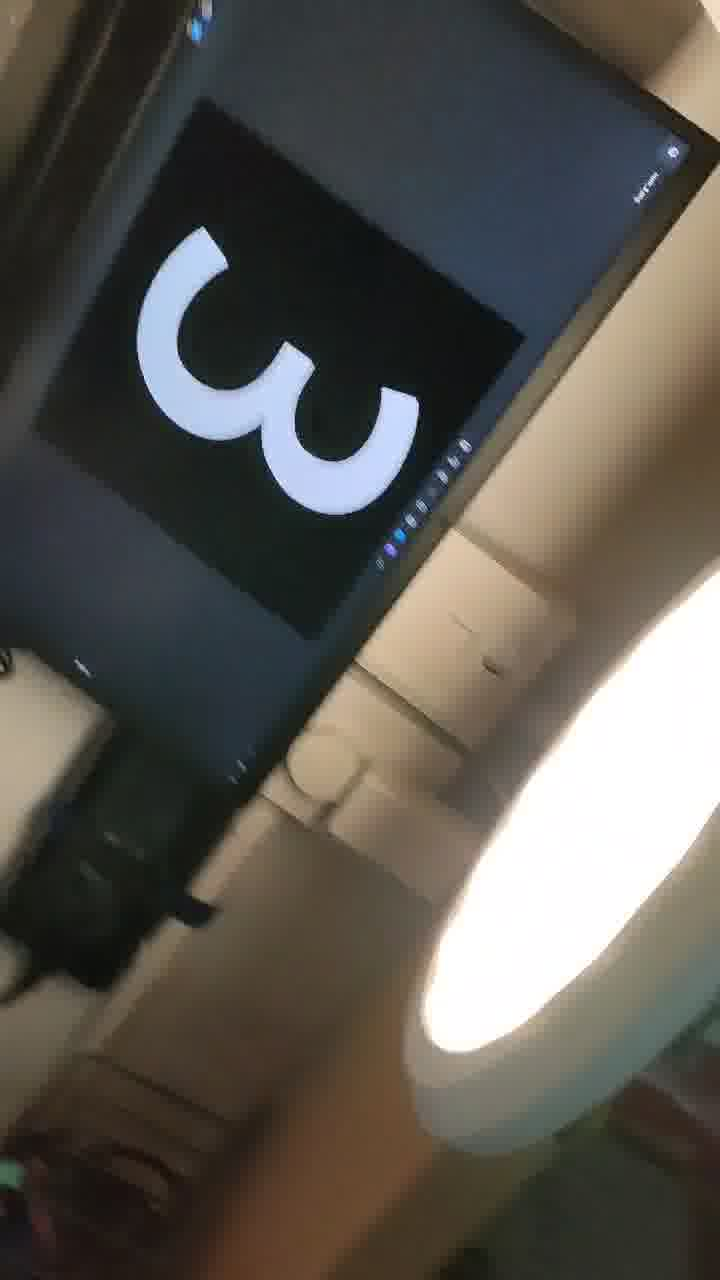three: (91, 167, 479, 594)
